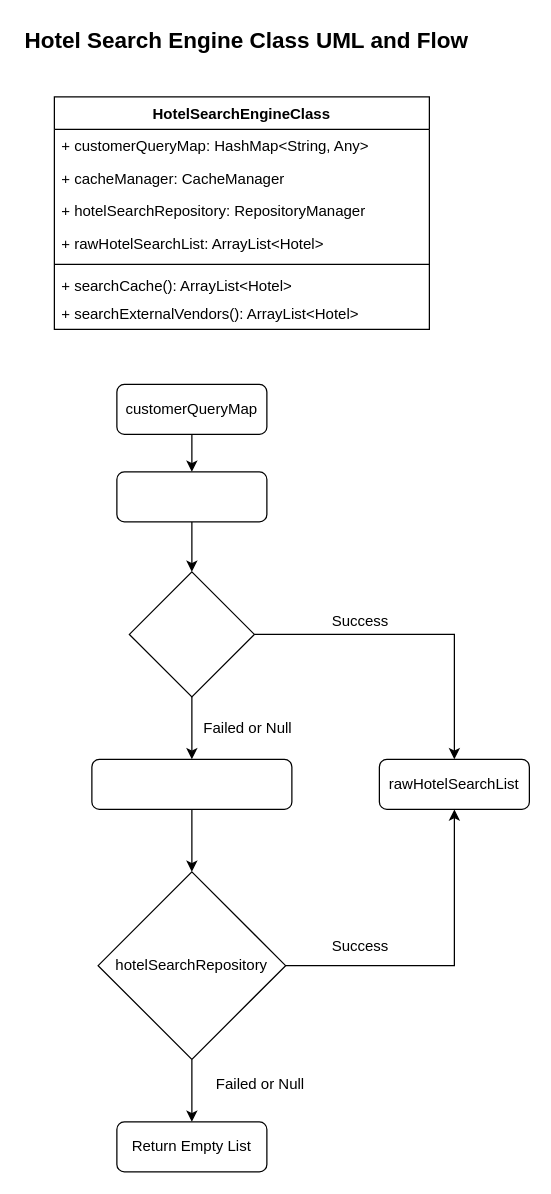
This 551x1194 diagram has some shape labels left out. The centre of each missing label's shape, as x and y in pixels:
"cacheManager" goes at point 191,634.
"searchCache()" goes at point 191,496.
"searchExternalVendors()" goes at point 191,783.
